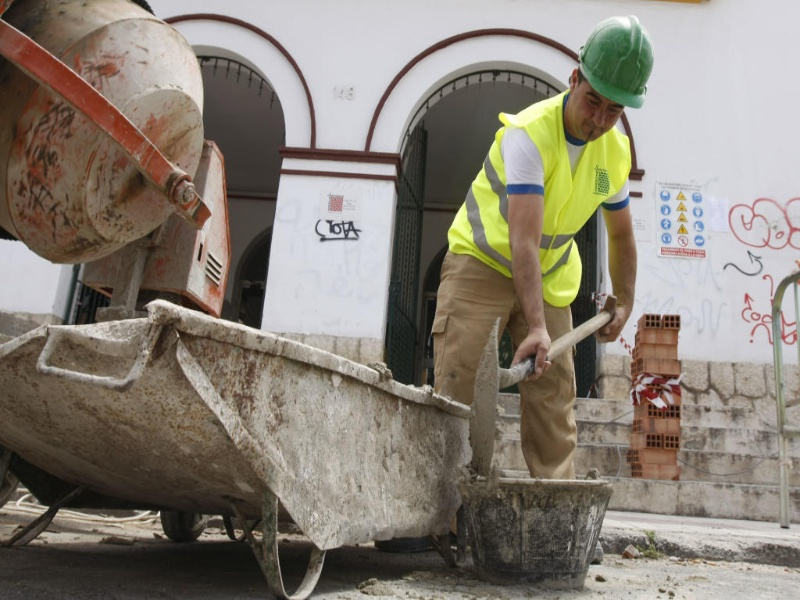casco: (576, 13, 657, 111)
